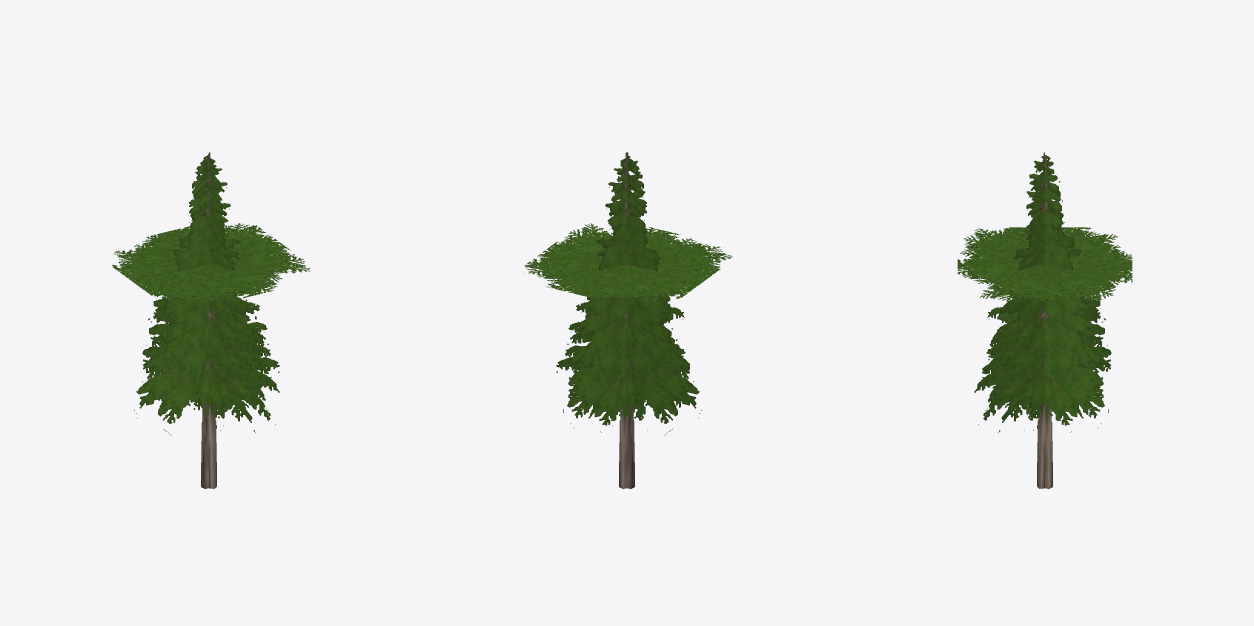
Rendered from tree_conifer_02_far.glb.
The picture shows the model from 3 angles, left to right: view 1: azimuth 30°, elevation 25°; view 2: azimuth 150°, elevation 25°; view 3: azimuth 270°, elevation 25°; orthographic projection.
Parts seen in each view (by area): view 1: env; view 2: env; view 3: env.
Boxes of the visible parts, box(x1,y1,x2,y2) form: env: box(112, 152, 310, 488); env: box(524, 152, 732, 488); env: box(957, 152, 1132, 488).
Size of the model in its own units: 5.3 by 5.3 by 4.59.
Materials: 1 (1 with a texture image).
